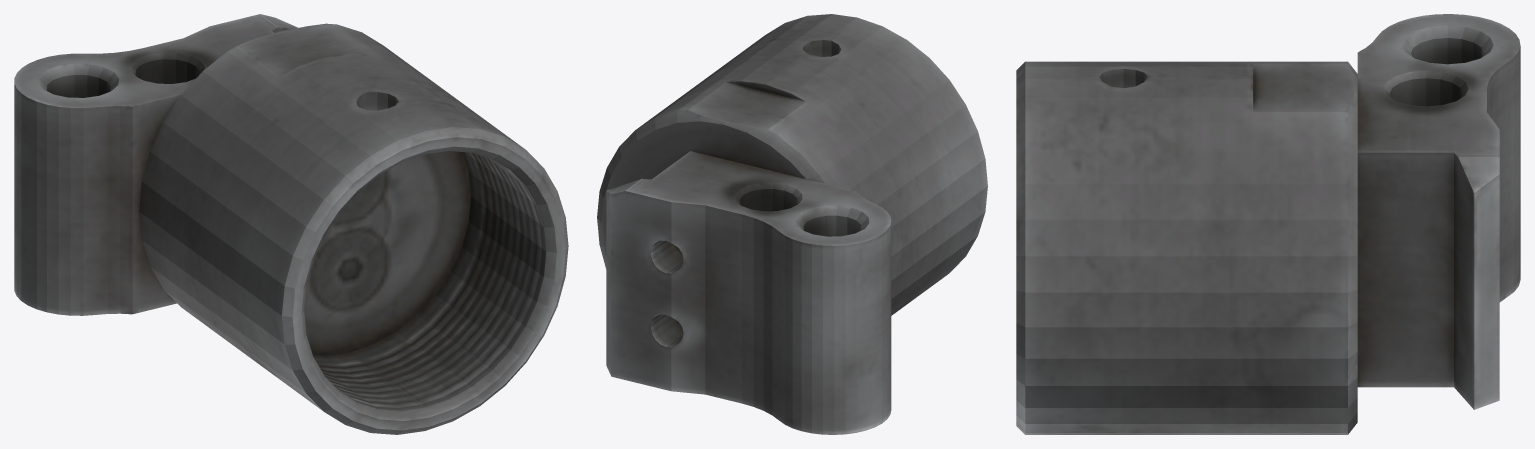
3 views of the same model, side by side, from view 1: azimuth 30°, elevation 25°; view 2: azimuth 150°, elevation 25°; view 3: azimuth 270°, elevation 25° (orthographic). The views are drawn at different scales.
Parts seen in each view (by area): view 1: TW_6197b229af1f5202c57a9bea_PZ_Import; view 2: TW_6197b229af1f5202c57a9bea_PZ_Import; view 3: TW_6197b229af1f5202c57a9bea_PZ_Import.
Part boxes in pixels (box(x1,y1,x2,y2)): TW_6197b229af1f5202c57a9bea_PZ_Import: box(14, 14, 568, 434); TW_6197b229af1f5202c57a9bea_PZ_Import: box(597, 14, 987, 434); TW_6197b229af1f5202c57a9bea_PZ_Import: box(1016, 14, 1520, 434).
Bounding box in the file's own units: 0.0257 × 0.0277 × 0.0205.
Materials: 1 (1 with a texture image).
